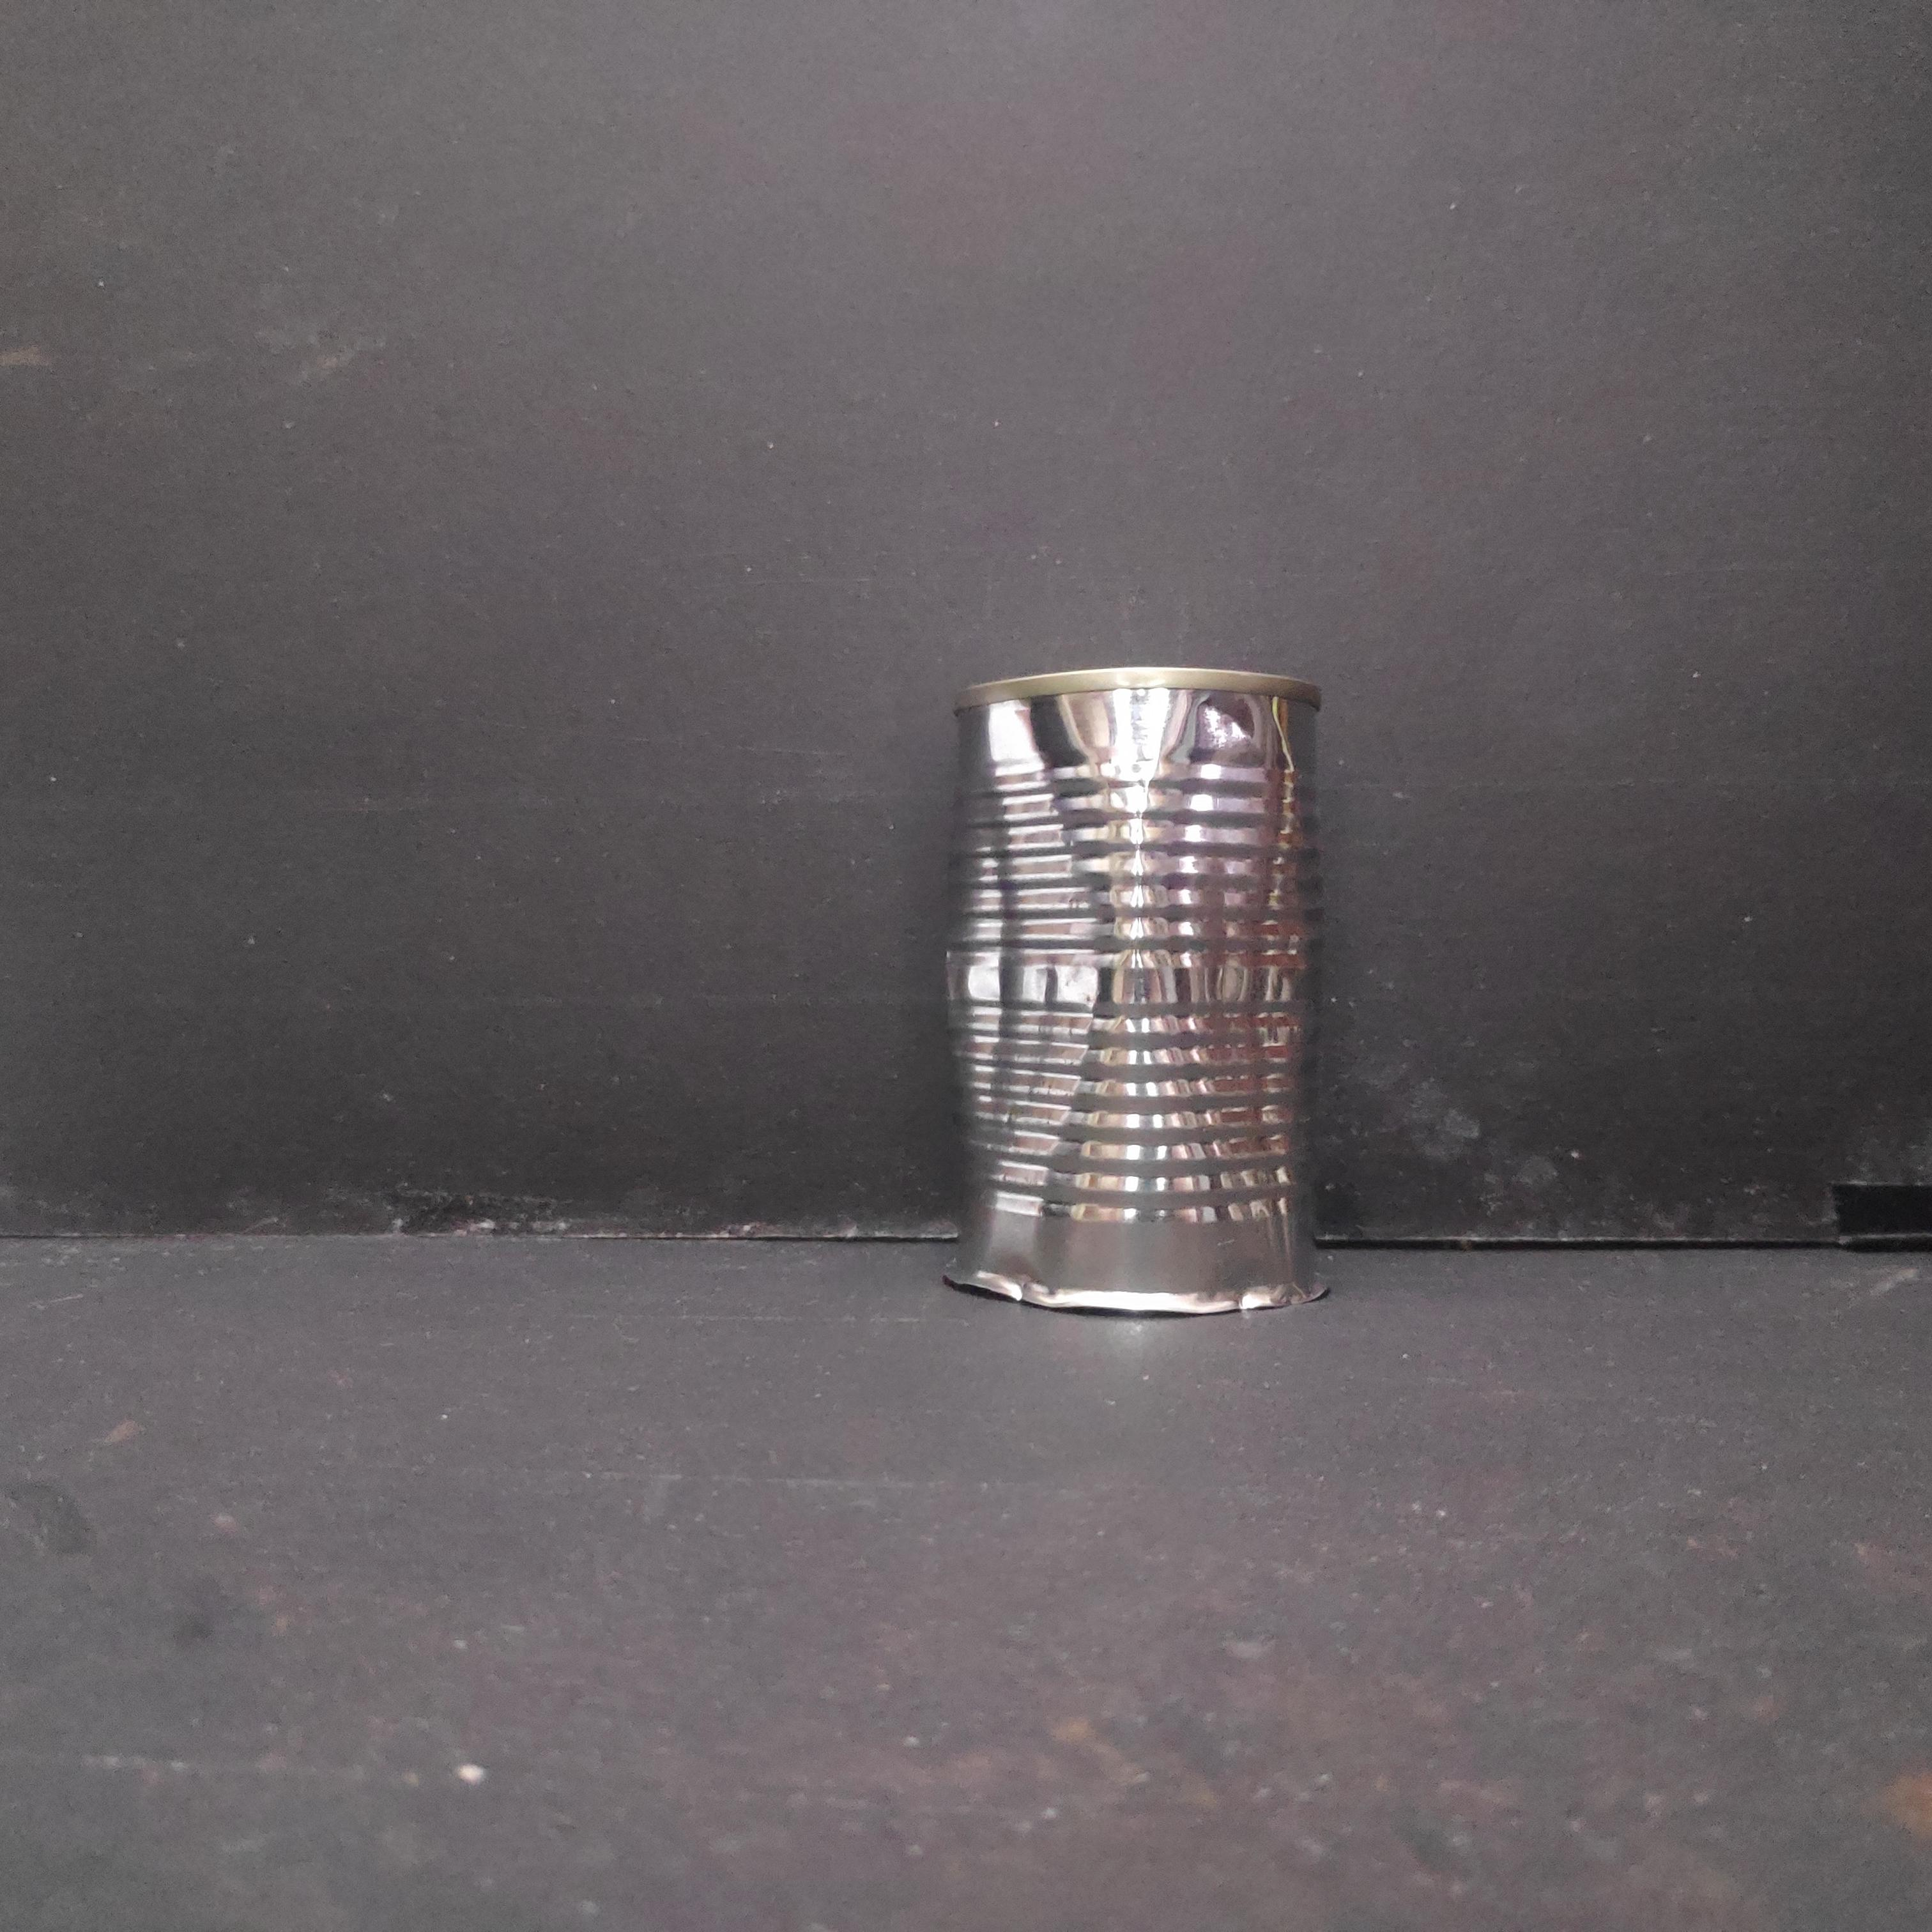Minor Defect: (934, 649, 1338, 1323)
